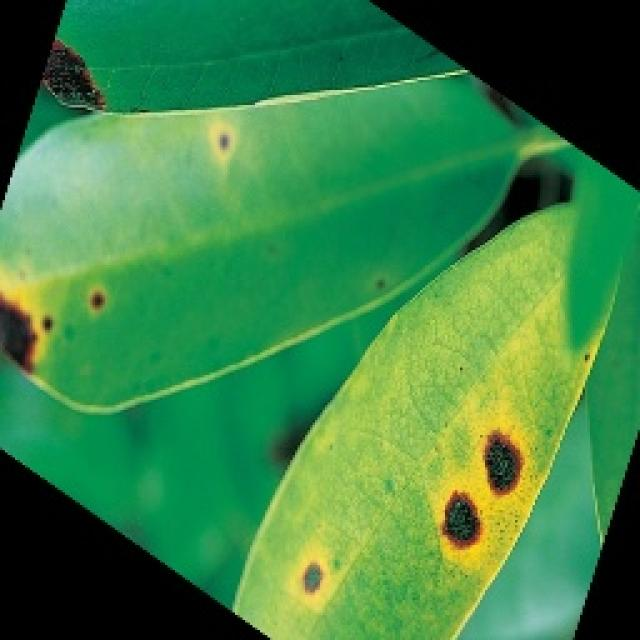Tar_Spot: (0, 0, 638, 638), (291, 361, 569, 634), (5, 191, 141, 389)
